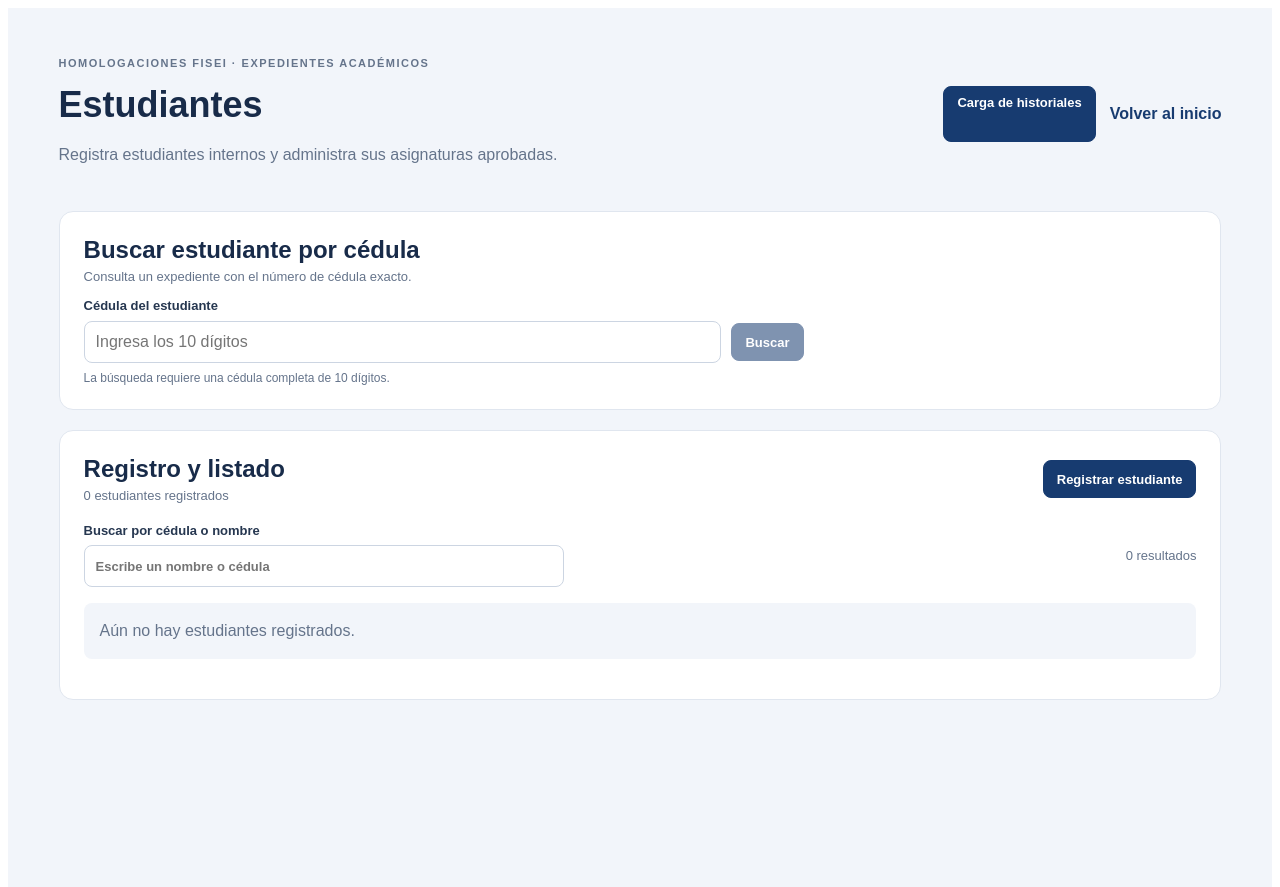
Búsqueda de estudiantes por cédula › muestra la ficha del estudiante y sus asignaturas al encontrarlo
Expected: the text "0 estudiantes registrados" is shown, [84,488,229,503]
In the search field labelled "Cédula del estudiante": (402,342) [84,321,721,363], type "0102030405"
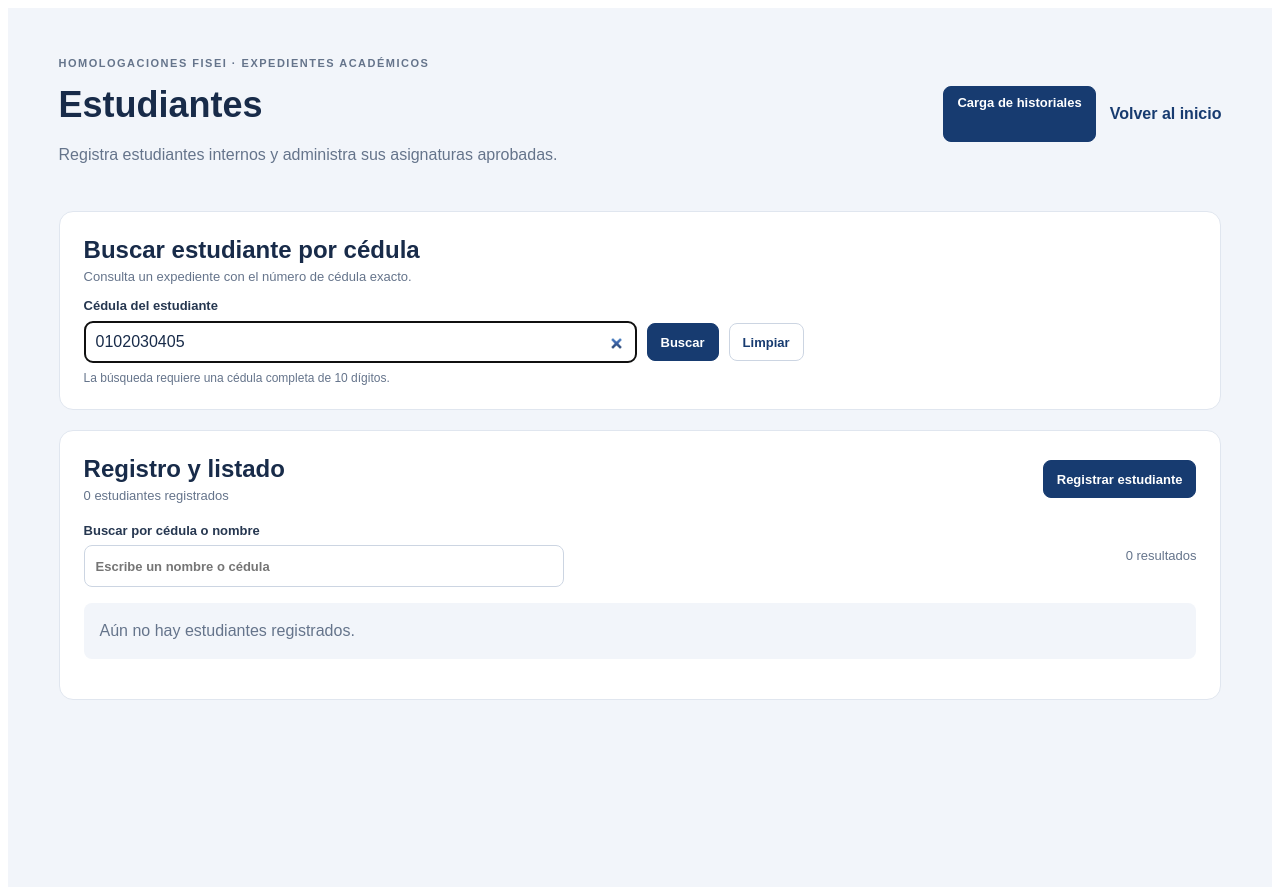
Click the button "Buscar": (683,342) [646,323,719,361]
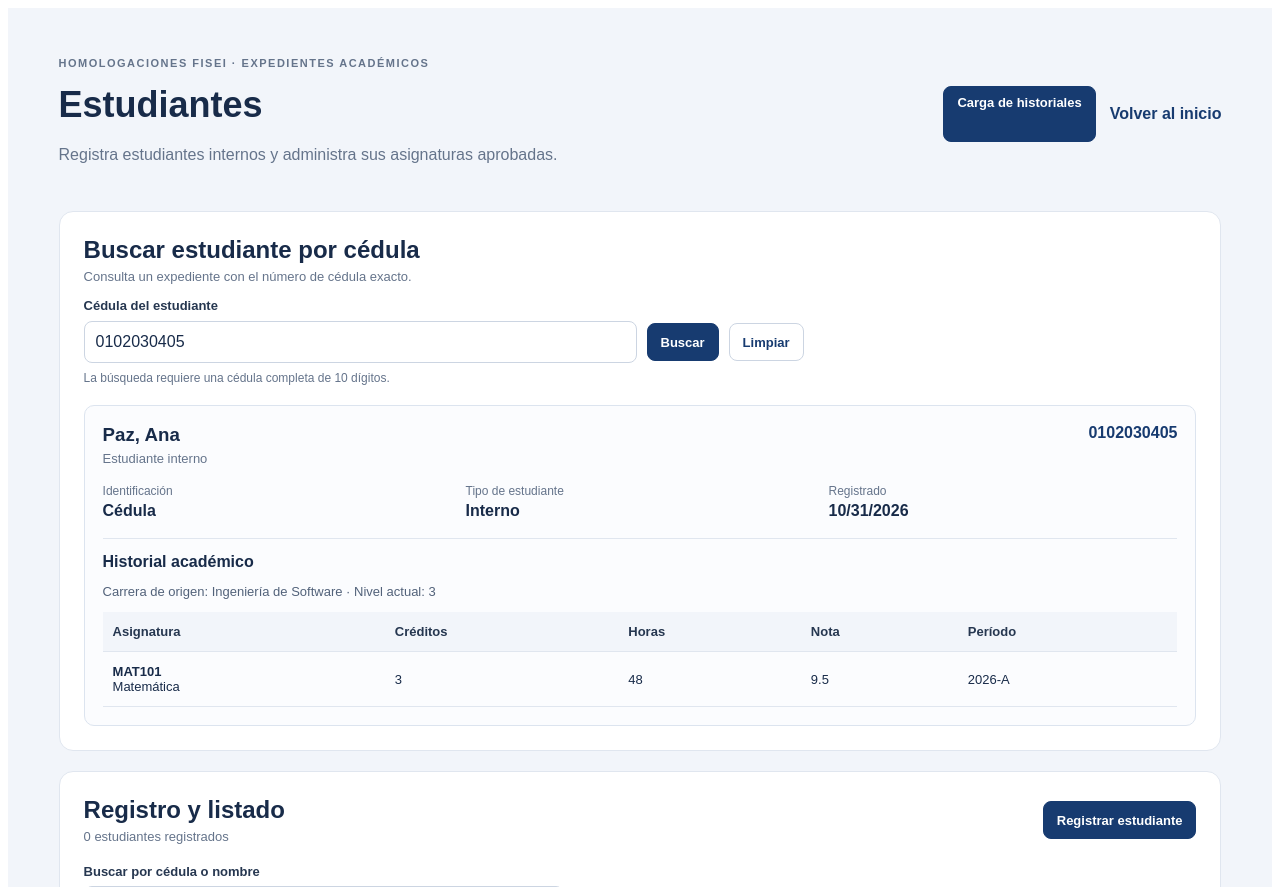
Expected: the heading "Paz, Ana" is shown, [102,424,180,445]
Expected: the text "Carrera de origen: Ingeniería de Software · Nivel actual: 3" is shown, [102,584,436,599]
Expected: the text "MAT101" is shown, [112,664,161,679]
